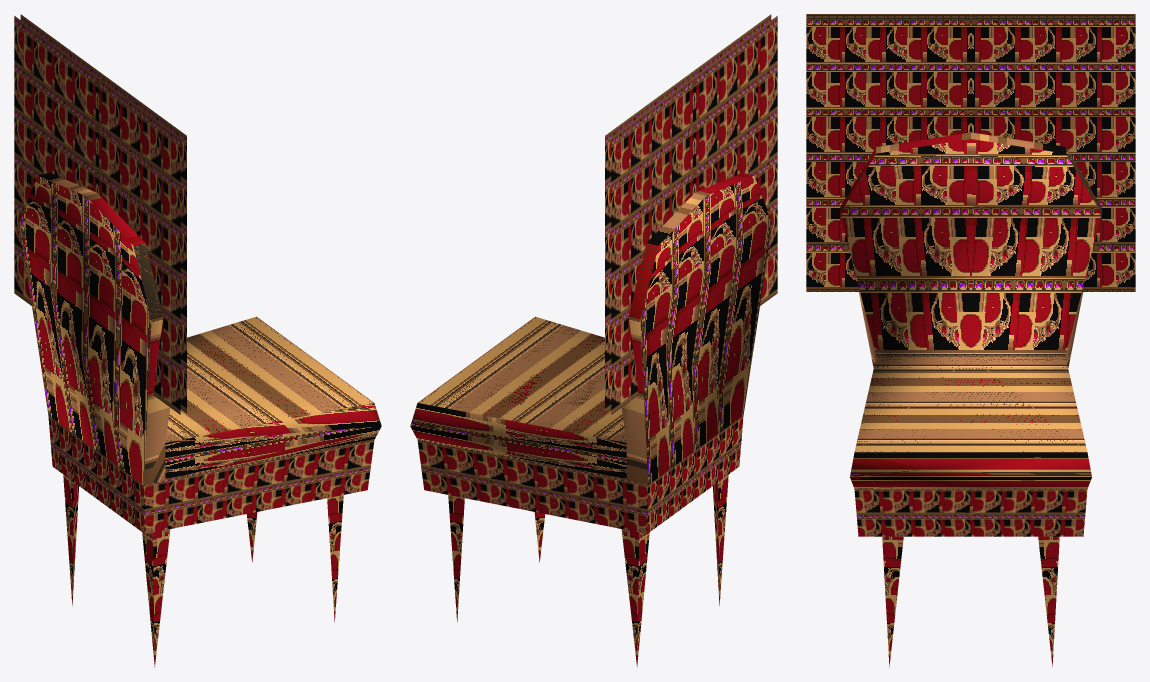
The model's file is 3575kg_16_isu.gltf.
3 views of the same model, side by side, from view 1: azimuth 30°, elevation 25°; view 2: azimuth 150°, elevation 25°; view 3: azimuth 270°, elevation 25° (orthographic).
Visible parts, largest first — view 1: 3575kg_16_isu; view 2: 3575kg_16_isu; view 3: 3575kg_16_isu.
Boxes of the visible parts, <box> form: 3575kg_16_isu: <box>14,14,381,667</box>; 3575kg_16_isu: <box>410,14,777,667</box>; 3575kg_16_isu: <box>806,14,1135,667</box>.
Size of the model in its own units: 0.7749 by 1.78 by 0.9502.
Materials: 1 (1 with a texture image).
